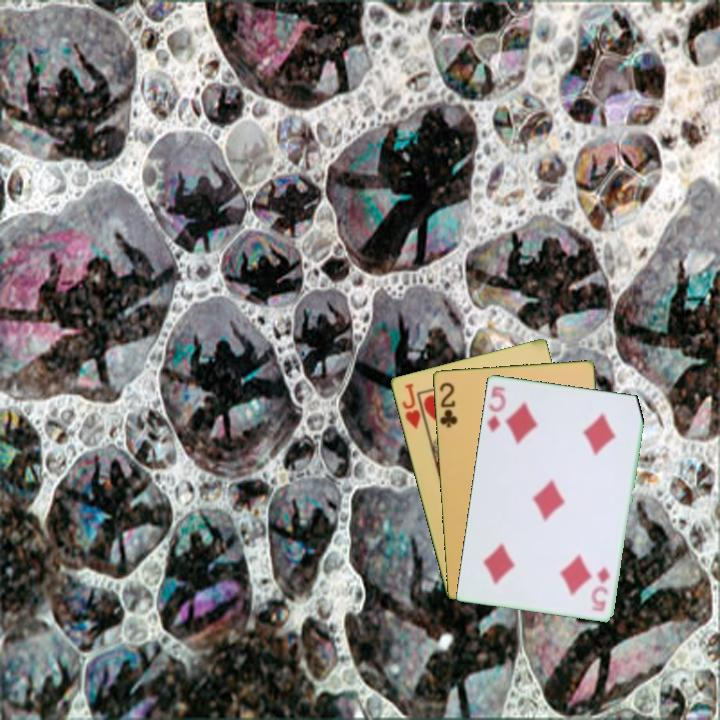2c: (436, 379, 460, 430)
5d: (483, 382, 509, 434), (590, 563, 612, 614)
Jh: (398, 379, 429, 433)
